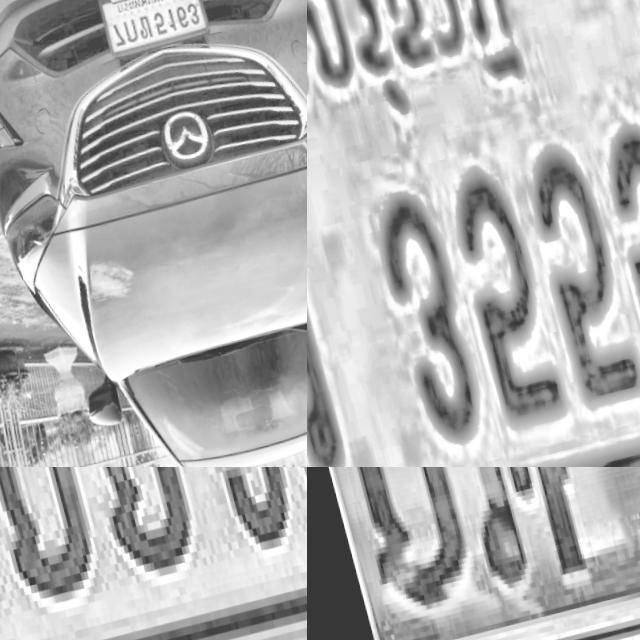license-plate: (307, 0, 640, 467), (307, 467, 640, 640), (0, 467, 307, 640), (83, 0, 216, 68)
